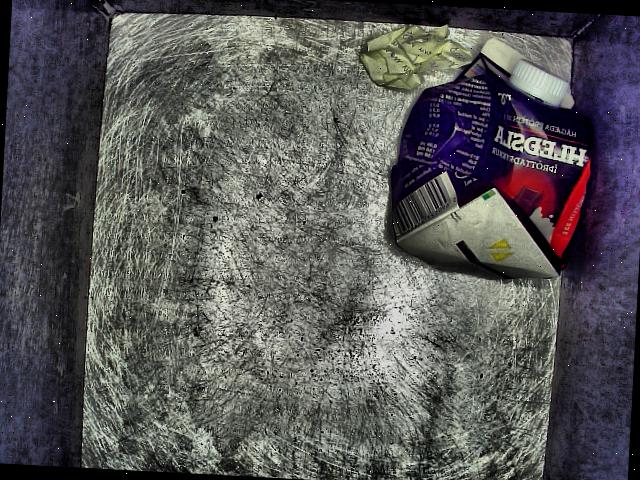Paper: (352, 31, 604, 286), (357, 17, 476, 97)
